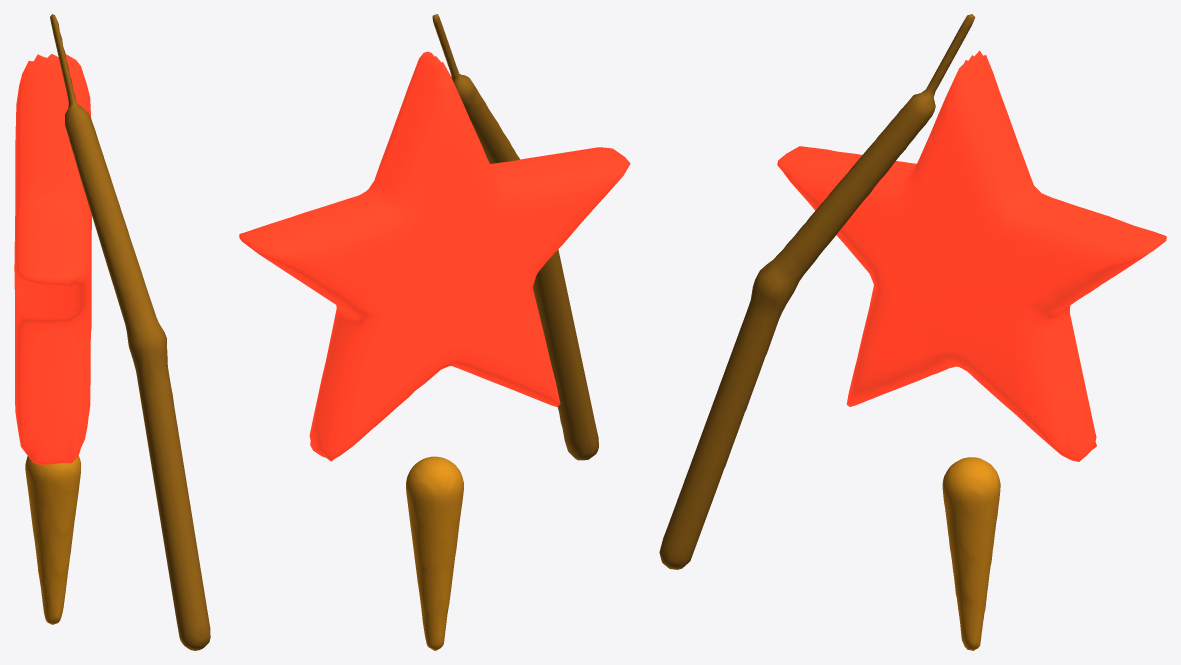
The model's file is denlong.glb.
3 views of the same model, side by side, from view 1: azimuth 30°, elevation 25°; view 2: azimuth 150°, elevation 25°; view 3: azimuth 270°, elevation 25° (orthographic). The views are drawn at different scales.
Visible parts, largest first — view 1: Ong_Sao, Que_Den, Tua_Den; view 2: Ong_Sao, Que_Den, Tua_Den; view 3: Ong_Sao, Que_Den, Tua_Den.
Boxes of the visible parts, x1,y1,x2,y2 form: Ong_Sao: (14,54,91,464); Que_Den: (50,14,210,650); Tua_Den: (25,456,80,624); Ong_Sao: (239,51,630,461); Que_Den: (432,14,598,460); Tua_Den: (406,456,463,650); Ong_Sao: (777,50,1166,461); Que_Den: (659,14,975,569); Tua_Den: (942,457,1000,650).
Size of the model in its own units: 0.0523 by 0.1424 by 0.1028.
